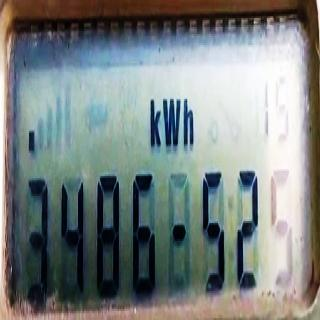-: (171, 218, 186, 244), (28, 130, 35, 156)
1: (261, 72, 274, 143)
2: (235, 160, 263, 296)
3: (21, 170, 53, 314)
4: (58, 165, 88, 300)
5: (268, 159, 298, 293), (201, 160, 228, 298), (274, 68, 292, 148)
6: (130, 162, 158, 298)
8: (94, 162, 121, 301)
